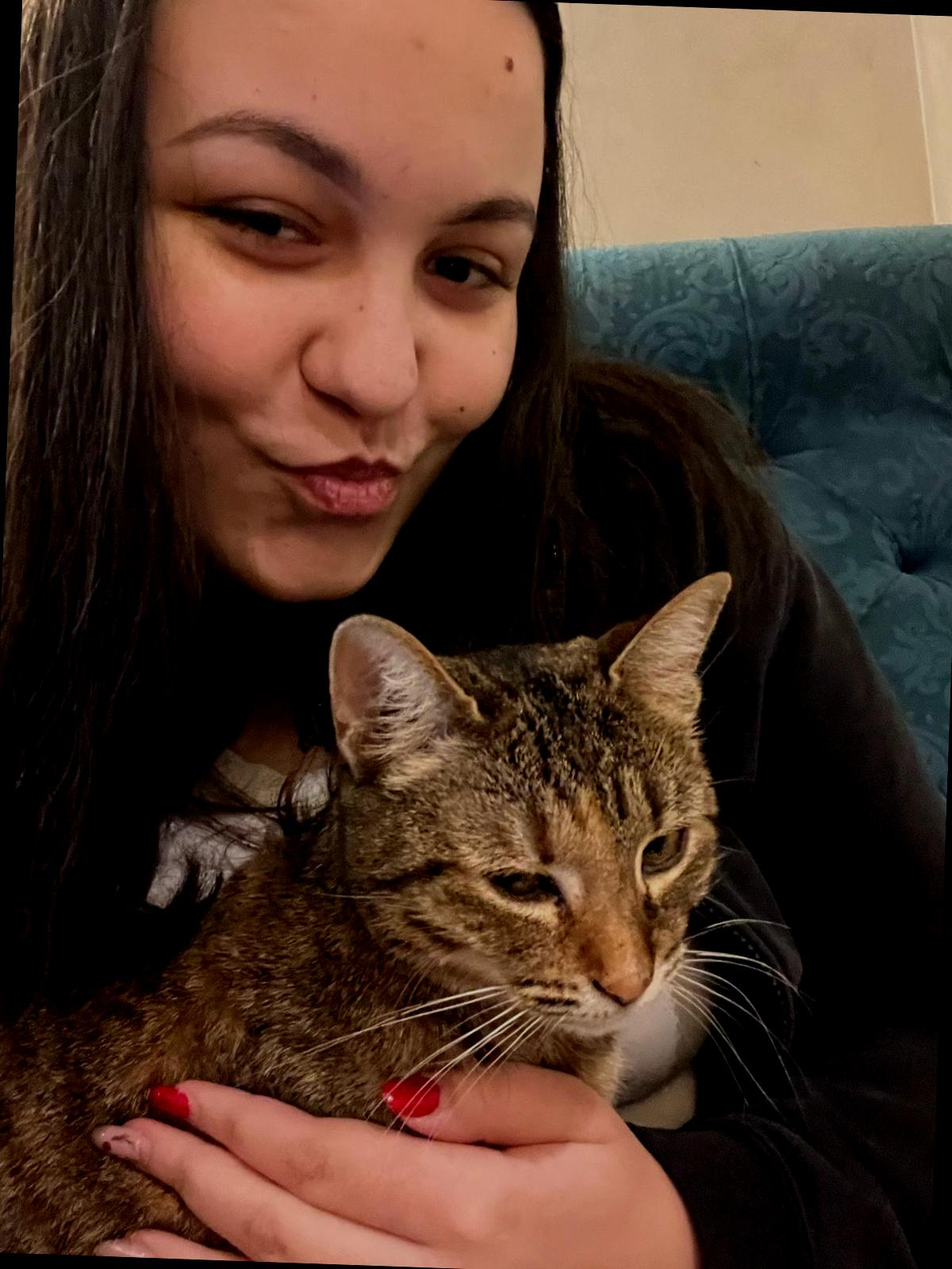macka: (0, 542, 734, 1269)
